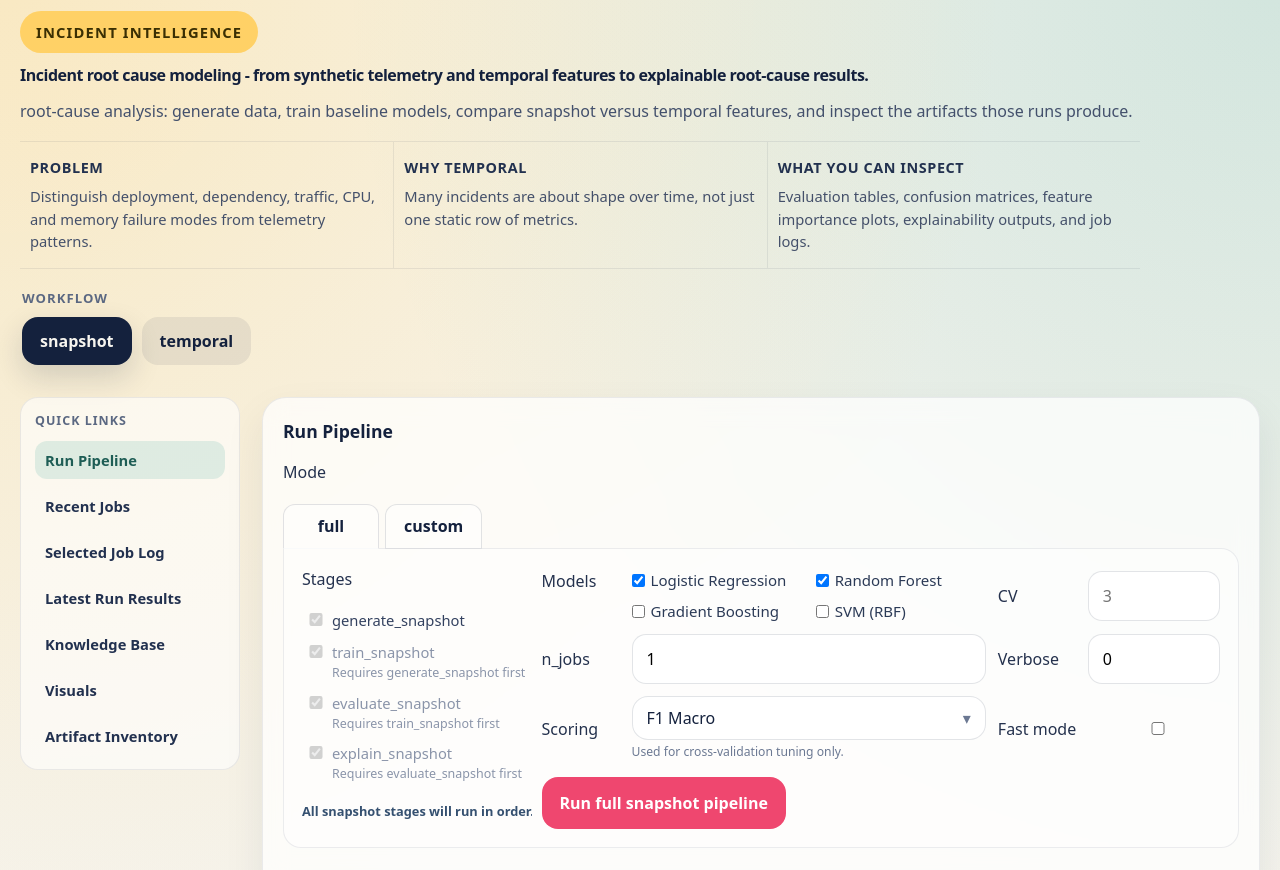
Scenario: App › restores the selected custom run log and run-scoped artifacts when switching away and back to its workflow
Click the button "temporal". click: (196,341)
box: [142,317,251,365]
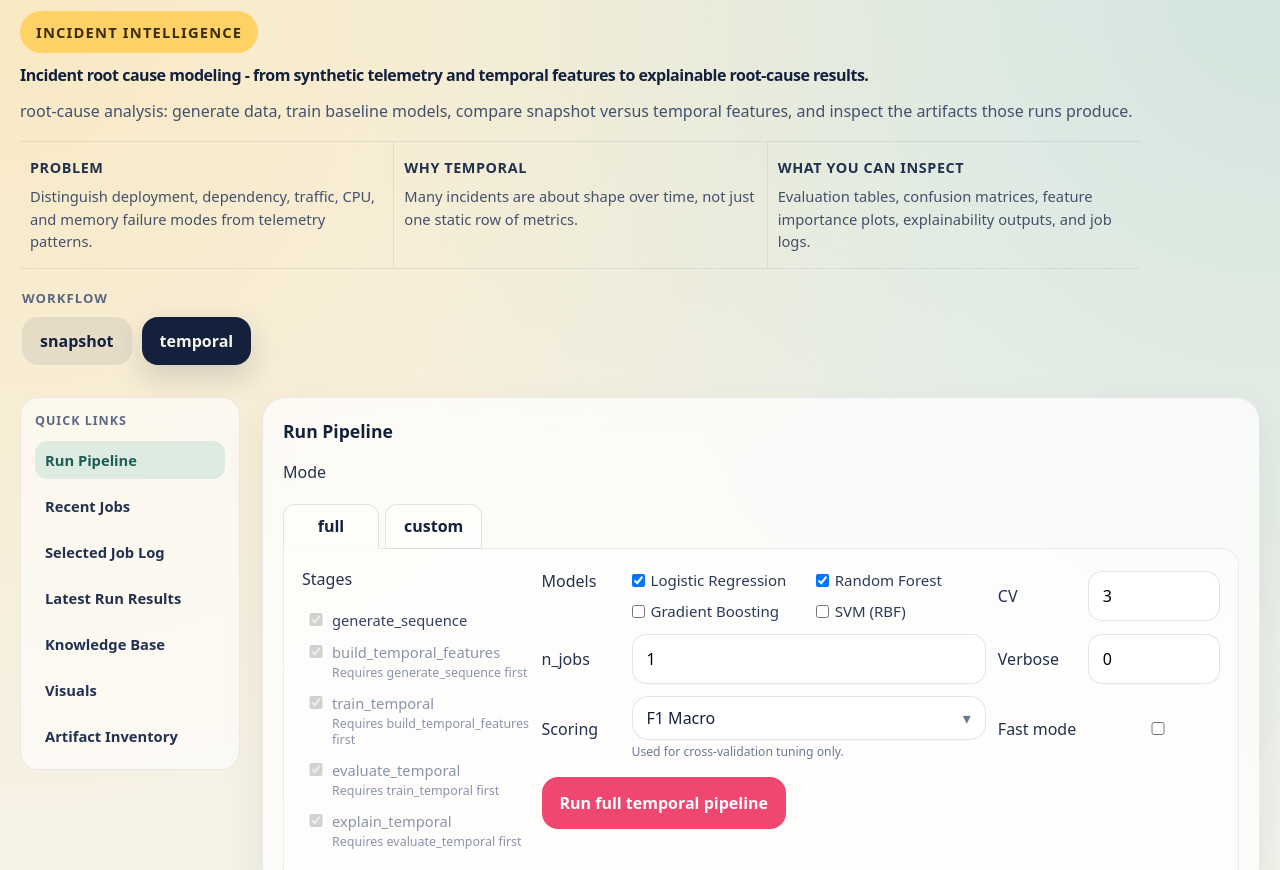
Click the button "custom". click: (434,527)
box: [385,504,482,549]
(page scrolled)
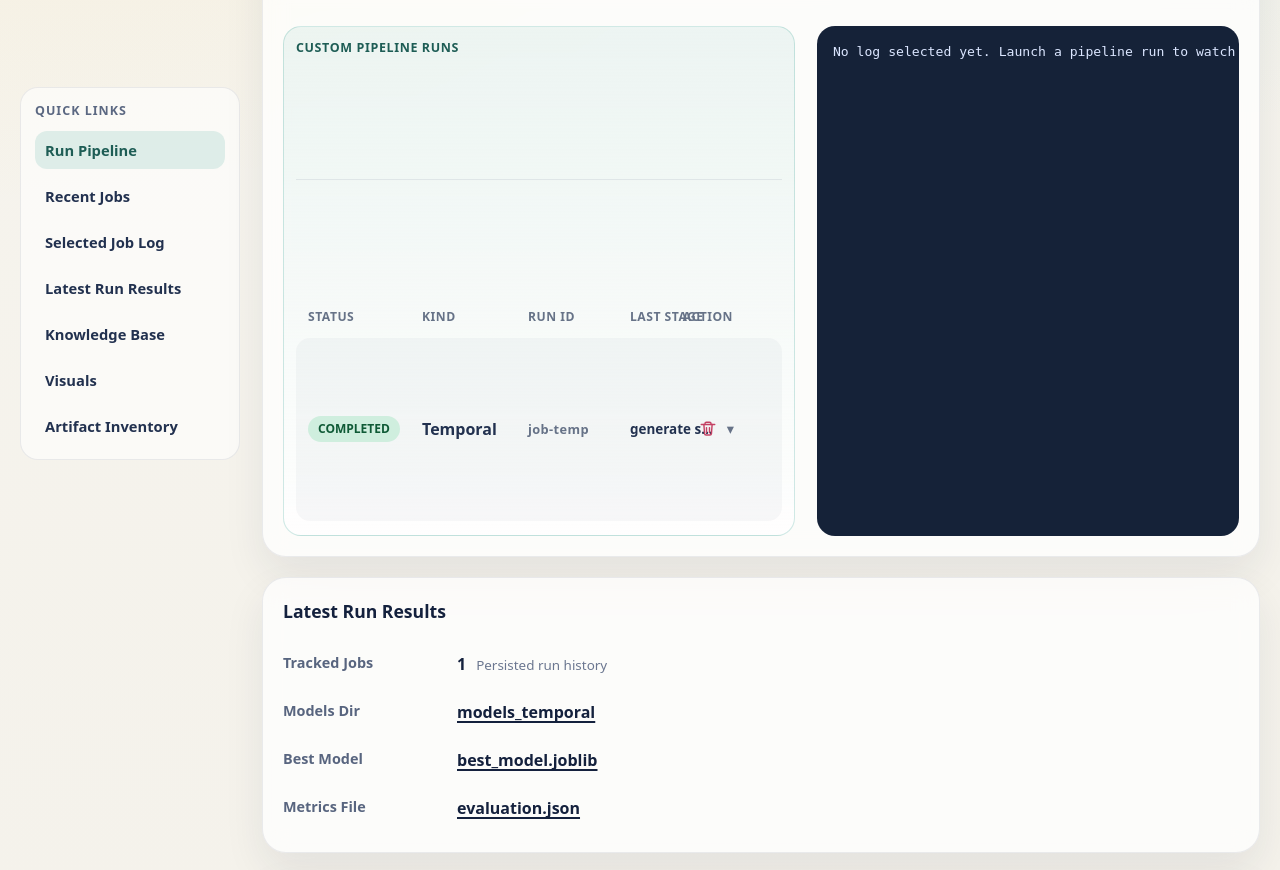
Click the button "job-temp". click: (472,429)
box: [308,416,636,442]
(page scrolled)
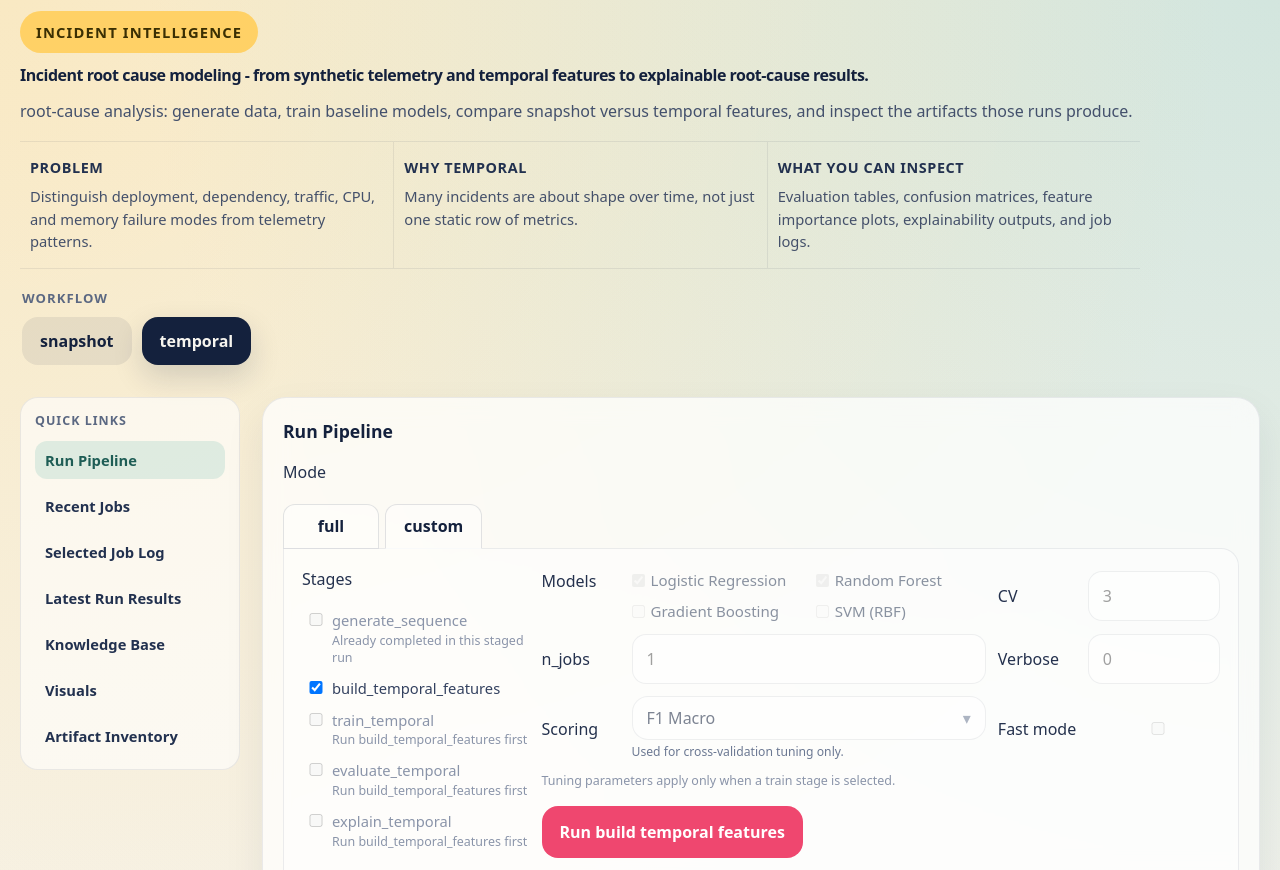
Click the button "snapshot". click: (77,341)
box: [22,317,132,365]
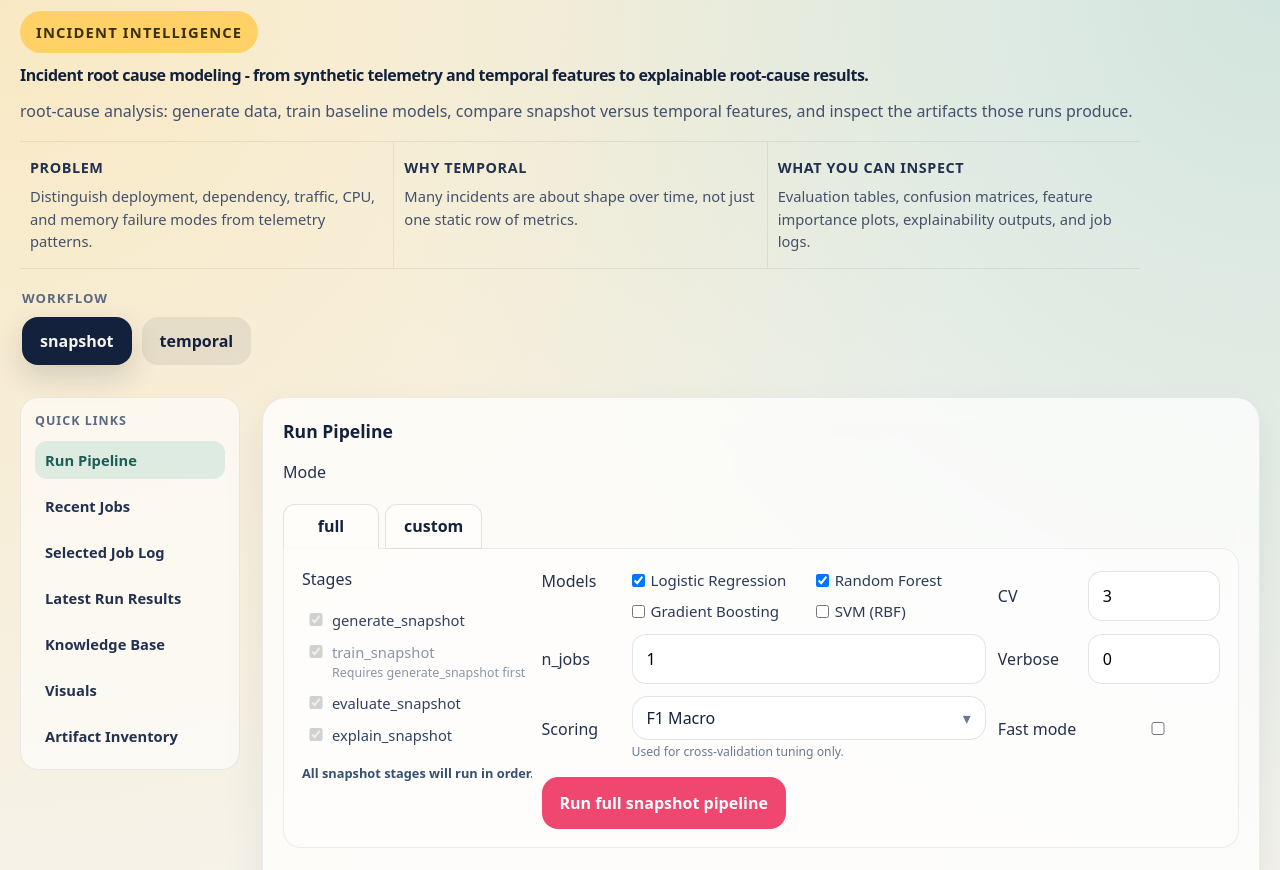
Expected: the text "temporal staged log" is not shown
Click the button "temporal". click: (196,341)
box: [142,317,251,365]
(page scrolled)
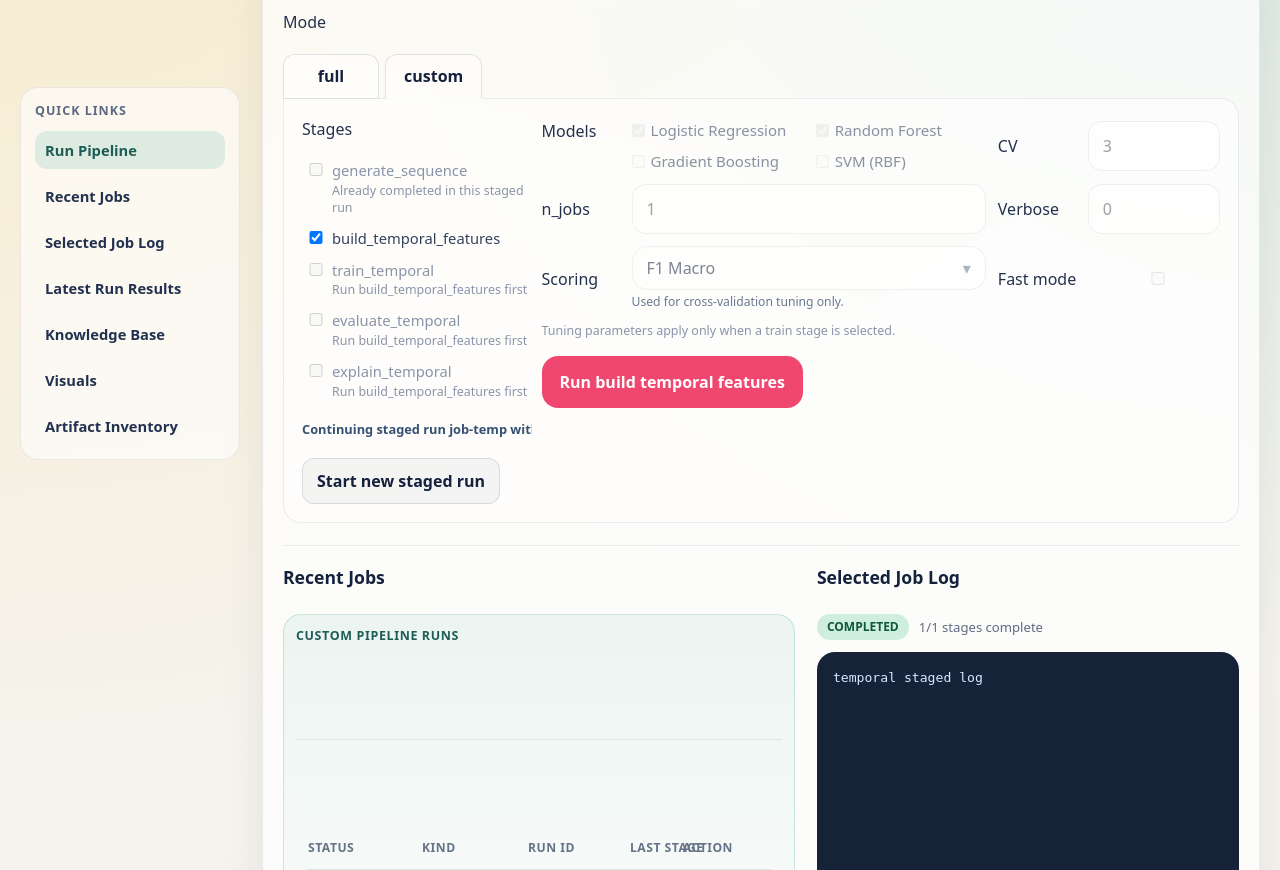
Now the text "Continuing staged run job-temp with: build_temporal_features" is shown, box [302,421,532,438]
